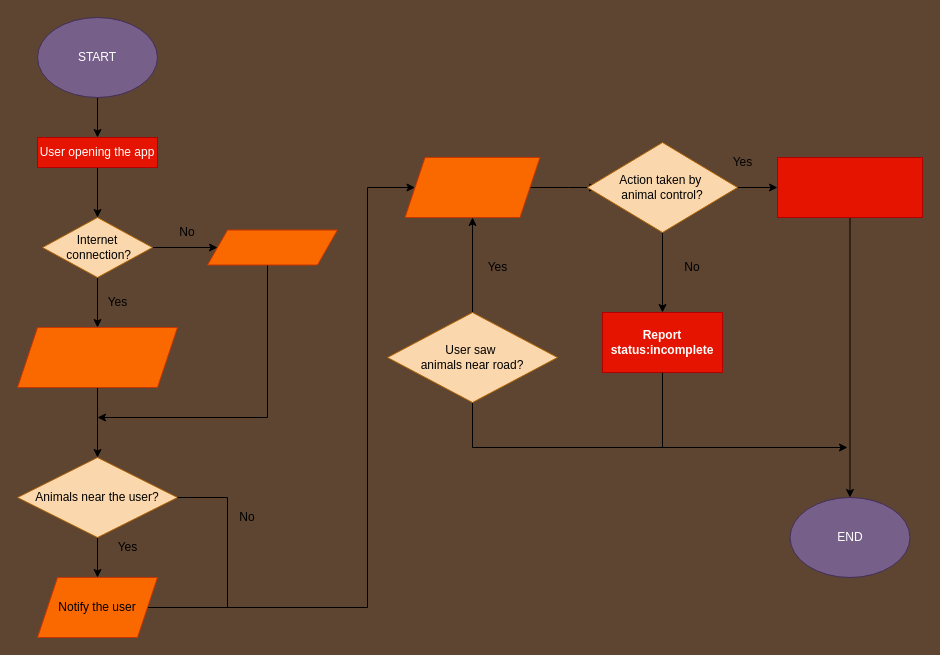
The diagram is 940 pixels wide and 655 high, and some of its shapes have lost their labels. Each missing label, with the box of its shape:
Display the real-time locations of the animals: (16, 326, 178, 388)
Making a report to Animal Control: (404, 156, 540, 218)
Report status:Completed: (776, 156, 922, 218)
Show last known location: (206, 229, 338, 265)
